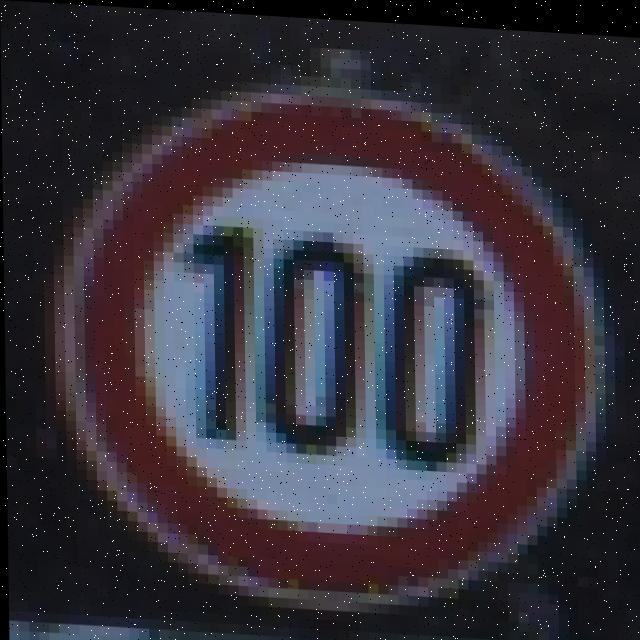speed_limit_100: (86, 70, 611, 613)
